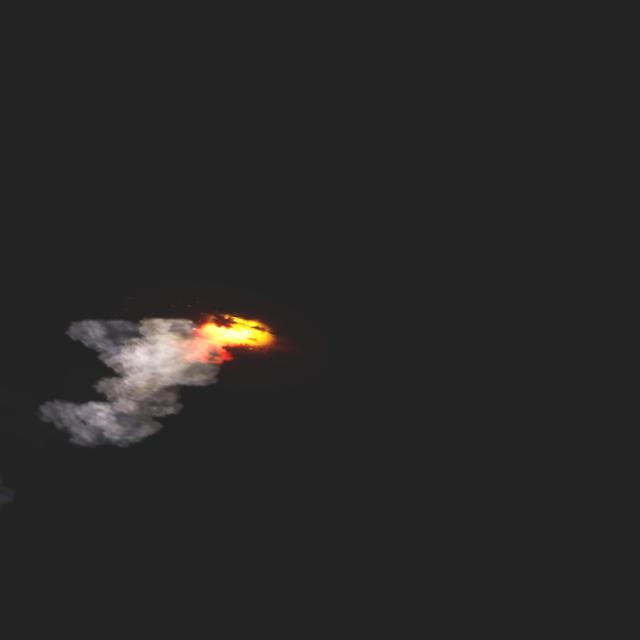fire: (200, 305, 276, 360)
smoke: (27, 285, 236, 475)
